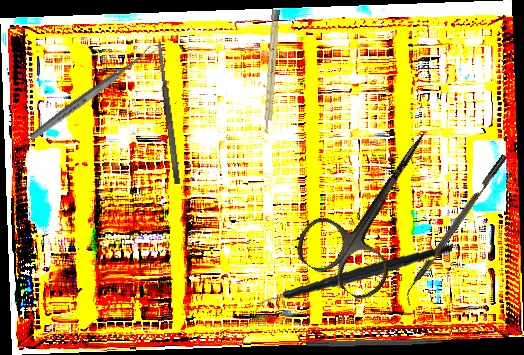Chopper: (254, 229, 453, 332), (398, 153, 514, 307)
Hook Surgical: (305, 338, 462, 349)
Iris Scissors: (287, 106, 467, 307)
Scalpel Handle: (263, 9, 280, 135)
Spatula Surgical: (155, 41, 182, 185)
Surgical Spoon: (27, 45, 157, 142)
